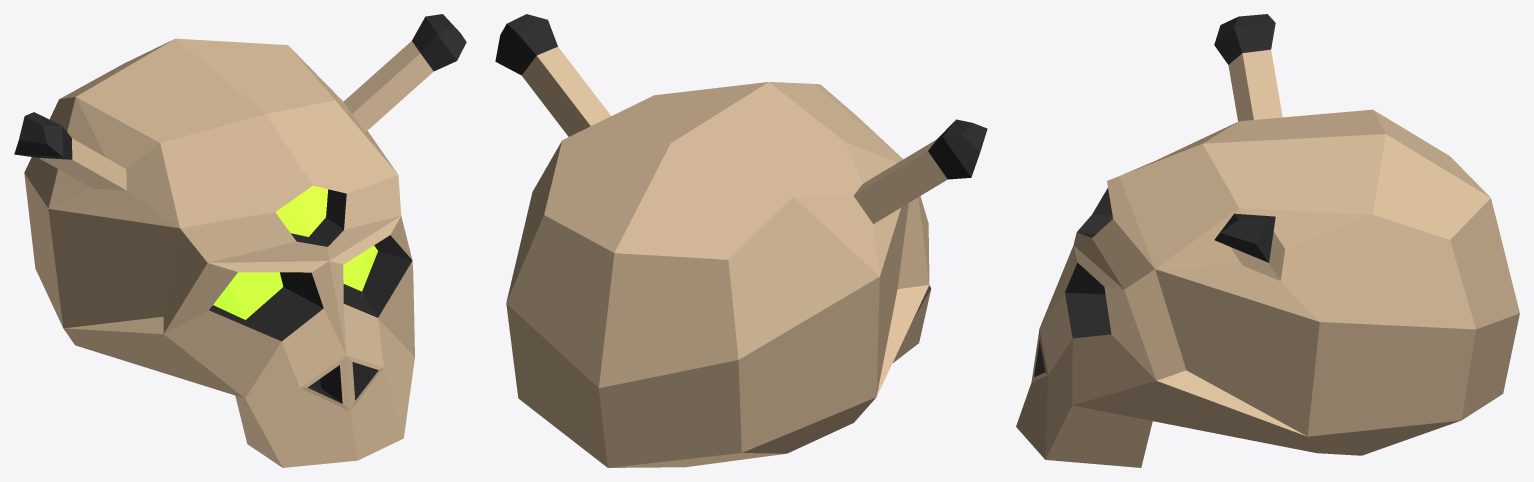
Rendered from scifi-scifi-skull-alien.glb.
3 renders of one model, left to right at view 1: azimuth 30°, elevation 25°; view 2: azimuth 150°, elevation 25°; view 3: azimuth 270°, elevation 25°, orthographic. The views are drawn at different scales.
Visible parts, largest first — view 1: scifi-skull-alien; view 2: scifi-skull-alien; view 3: scifi-skull-alien.
Part boxes in pixels (x1=…): scifi-skull-alien: x1=14, y1=14, x2=466, y2=467; scifi-skull-alien: x1=495, y1=14, x2=987, y2=467; scifi-skull-alien: x1=1016, y1=14, x2=1519, y2=467.
Bounding box in the file's own units: 0.2998 × 0.2103 × 0.2922.
